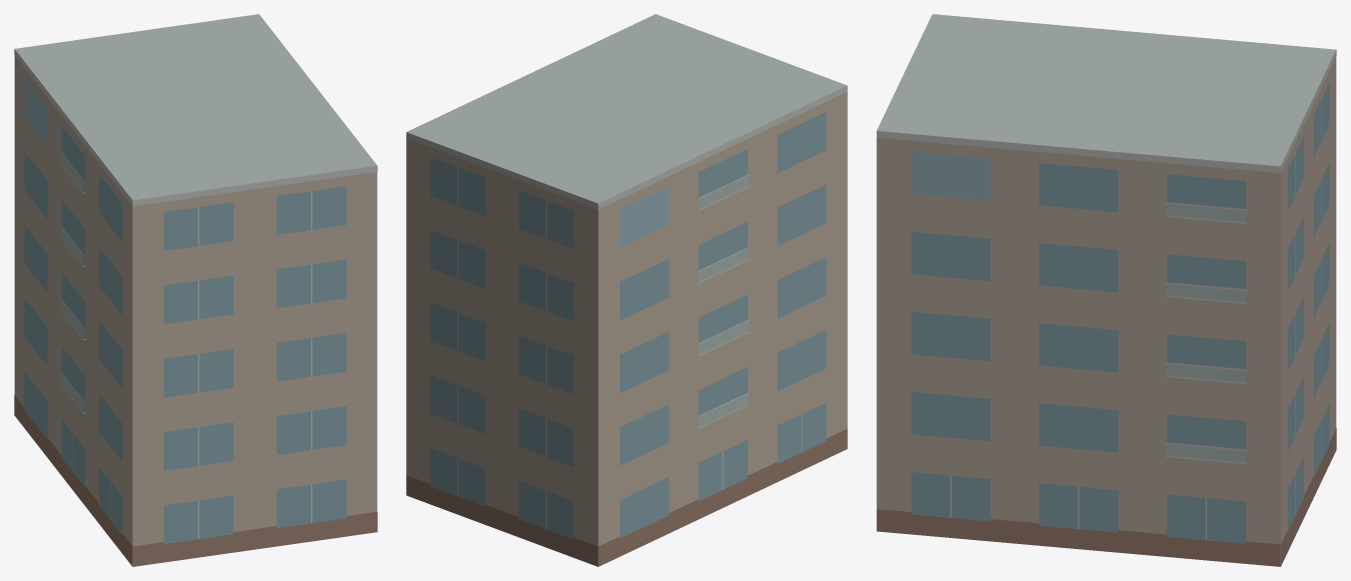
File: survey-upis-32928762.glb
3 views of the same model, side by side, from view 1: azimuth 30°, elevation 25°; view 2: azimuth 150°, elevation 25°; view 3: azimuth 270°, elevation 25° (orthographic). The views are drawn at different scales.
Parts seen in each view (by area): view 1: survey-upis-32928762.tmp; view 2: survey-upis-32928762.tmp; view 3: survey-upis-32928762.tmp.
Boxes of the visible parts, x1,y1,x2,y2 form: survey-upis-32928762.tmp: (14,14,377,566); survey-upis-32928762.tmp: (406,14,847,566); survey-upis-32928762.tmp: (876,14,1336,566).
Size of the model in its own units: 11.84 by 14.5 by 15.1.
